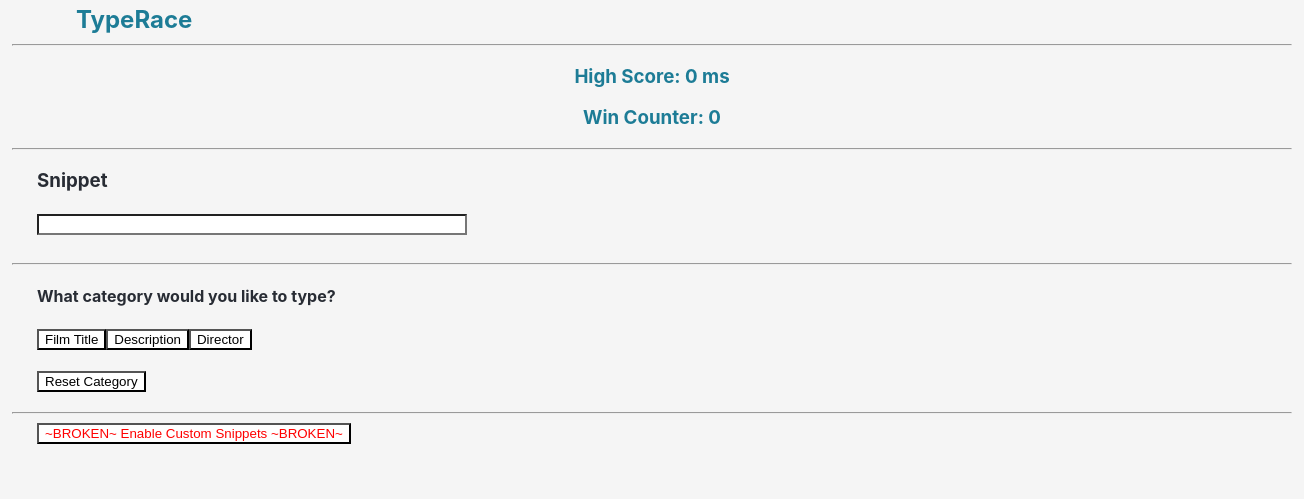
Test: App › Reset Category Button › unrender the chosen snippet text & button when clicked
Click the button "Film Title" at (72, 339), box [37,329,106,350]
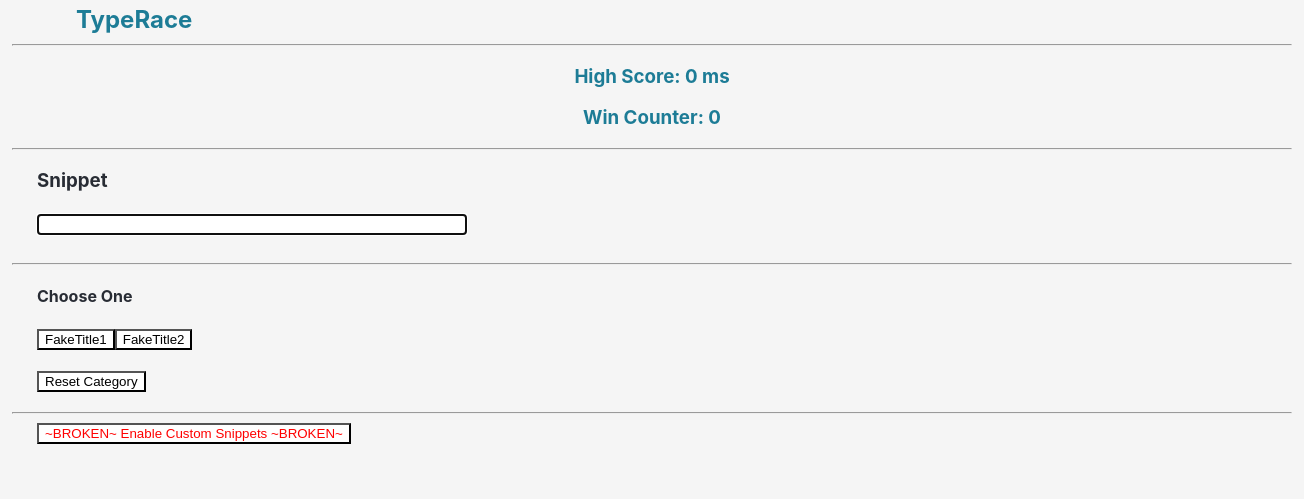
Click the button "FakeTitle2" at (154, 339), box [115,329,192,350]
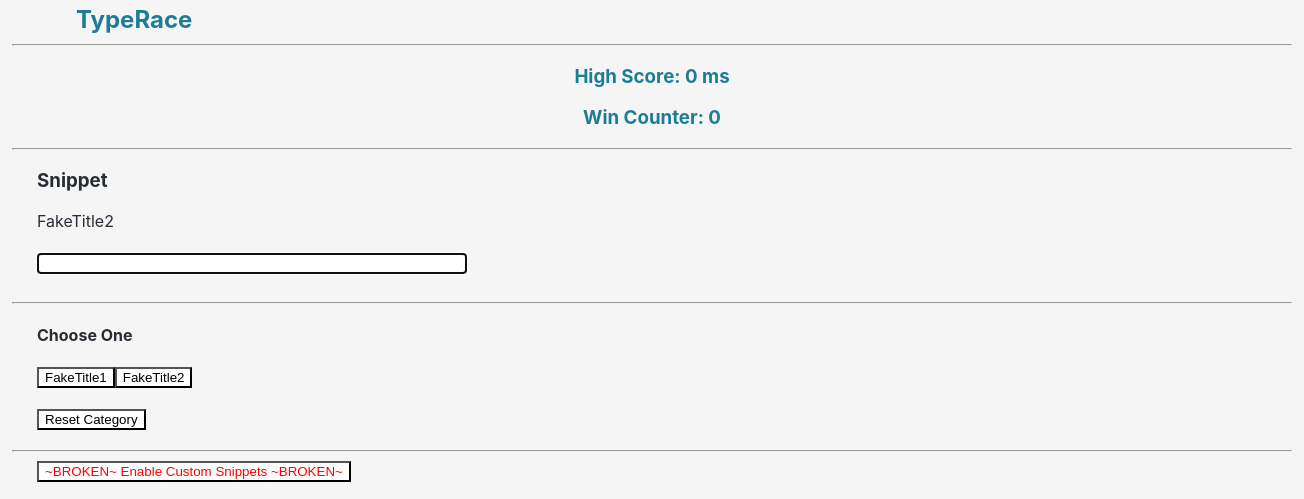
Click the button "Reset Category" at (91, 420), box [37,409,146,430]
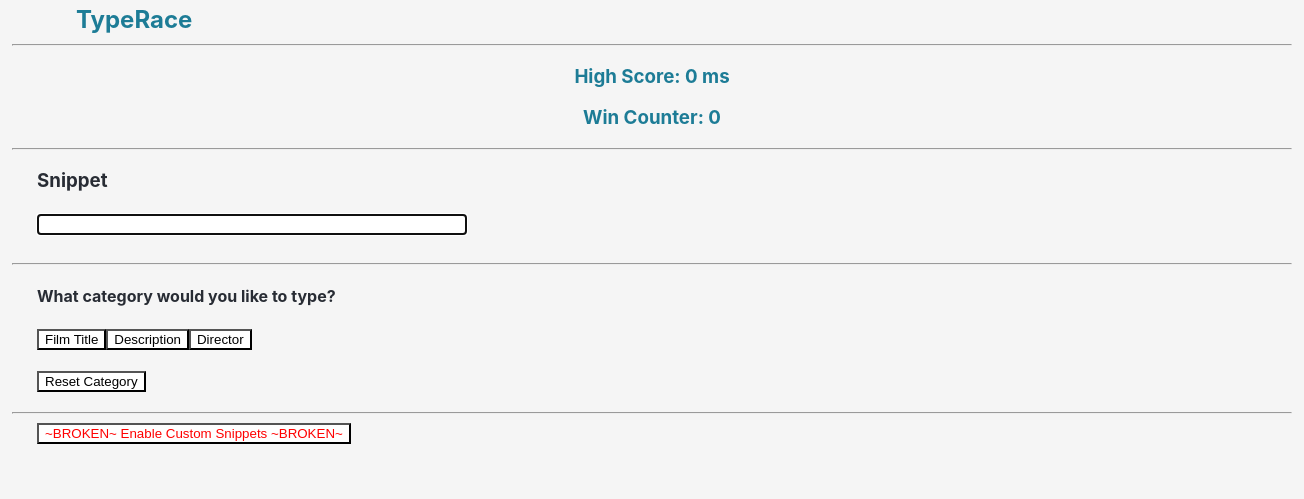
expect the text "FakeTitle2" is gone: met
